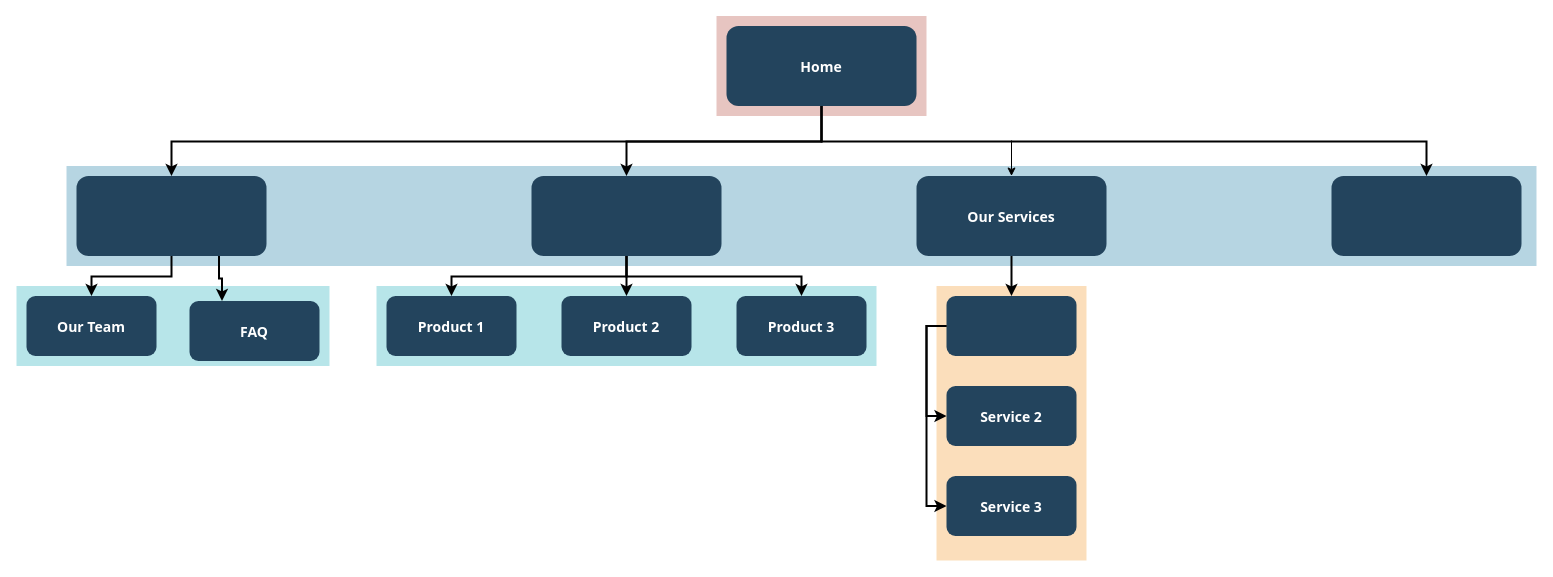
This 1553x577 diagram has some shape labels left out. The centre of each missing label's shape, as x and y in pixels:
About Us: (171,216)
Contact Us: (1426,216)
Our Products: (626,216)
Shopping Cart: (1011,326)
